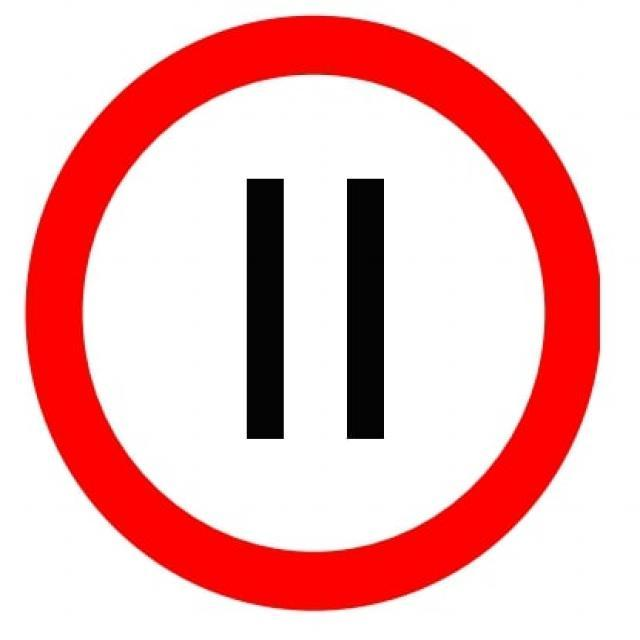Larangan Muatan - 10 ton: (23, 14, 602, 612)
